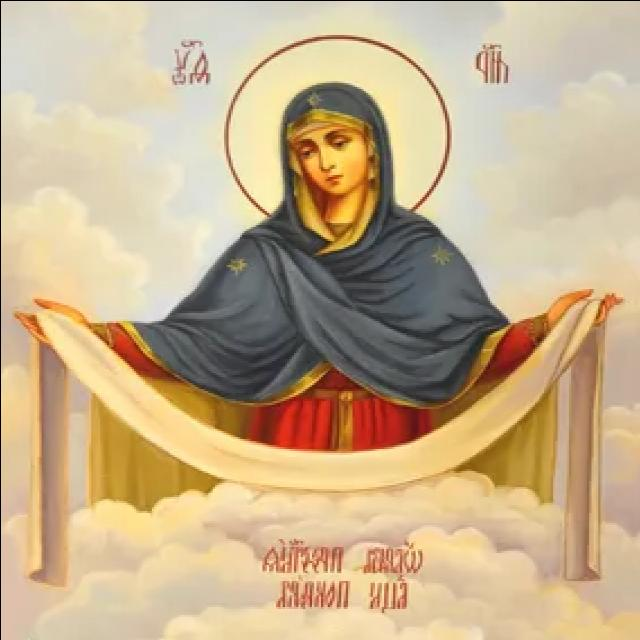mother of god: (12, 71, 630, 566)
